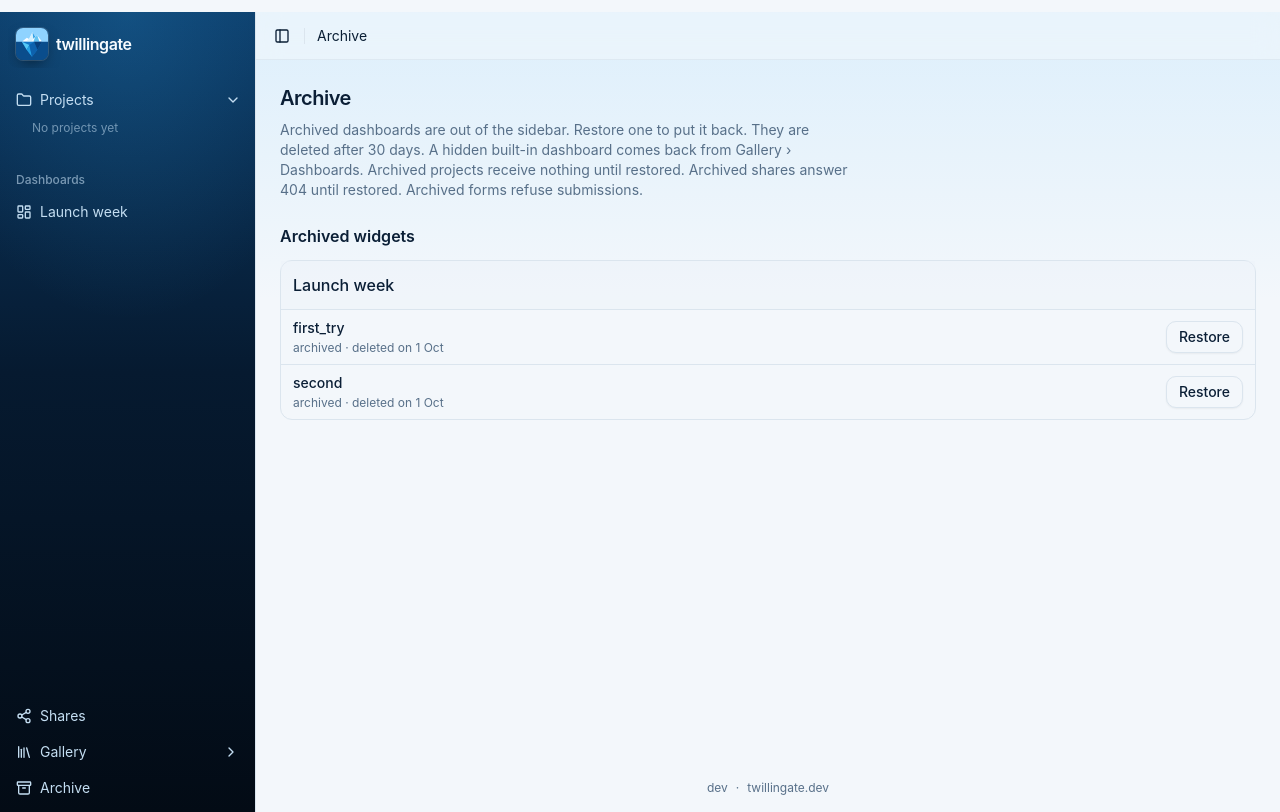
Test: Archive, widgets › disables a widget's Restore while its restore is out, so a double click restores once
Click the button "Restore" in the row of "first_try": (1204, 337) [1166,321,1243,353]
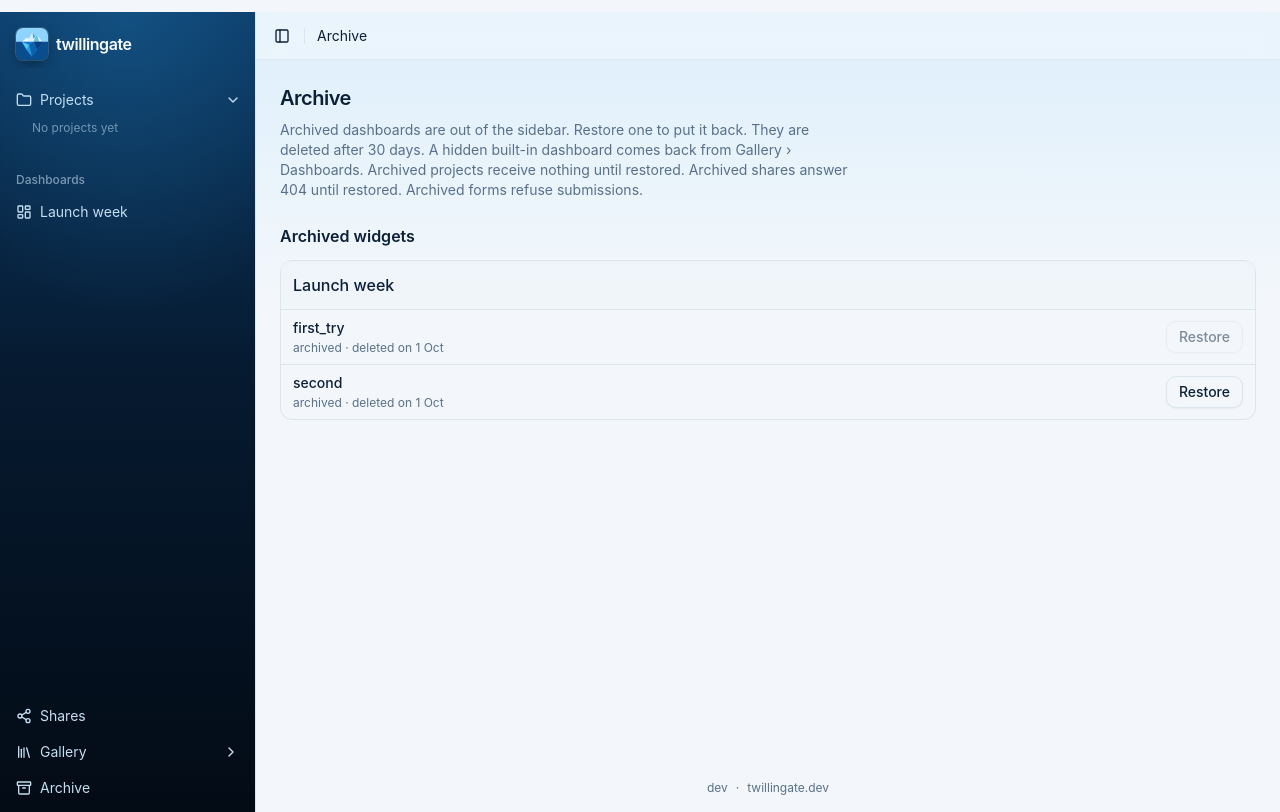
expect the button "Restore" in the row of "second" is enabled: met, box [1166,376,1243,408]
expect the button "Restore" in the row of "first_try" is disabled: met
Click the button "Restore" in the row of "first_try": (1204, 337) [1166,321,1243,353]
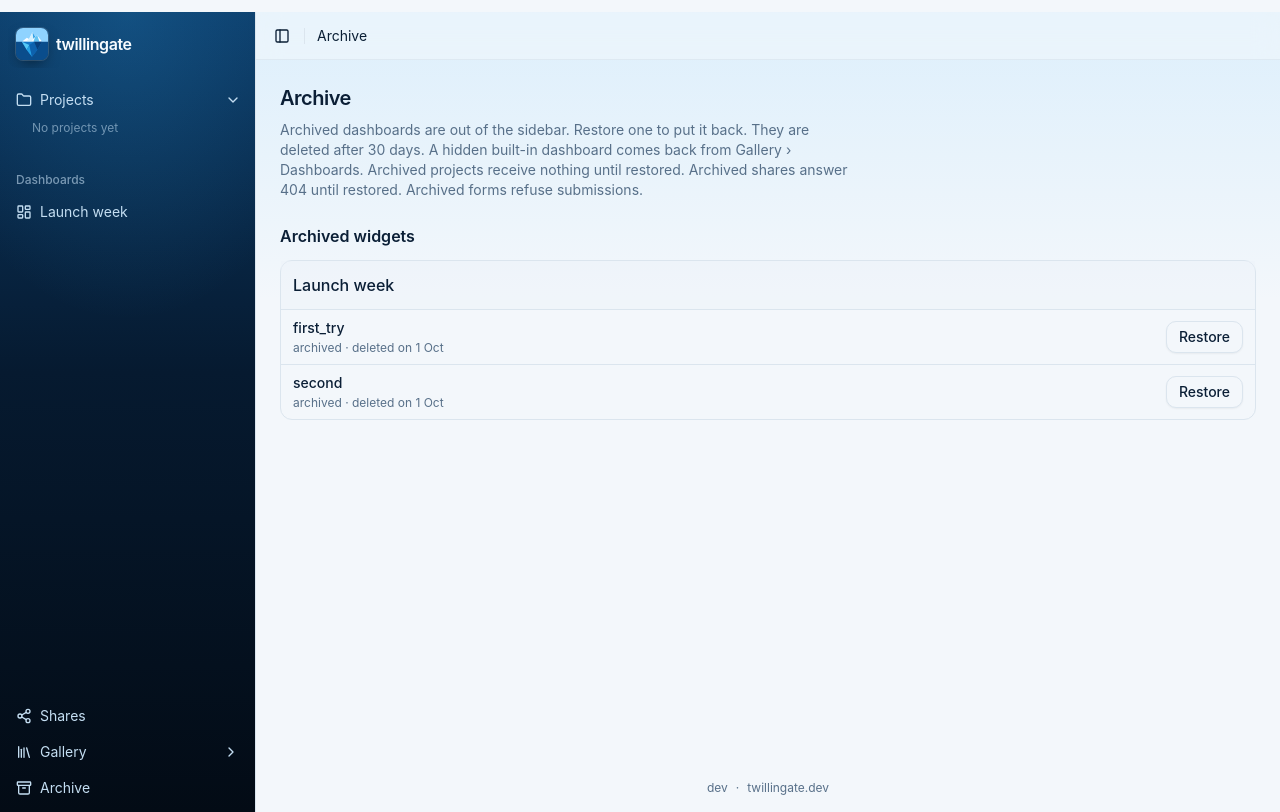
expect the button "Restore" in the row of "first_try" is enabled: met, box [1166,321,1243,353]
